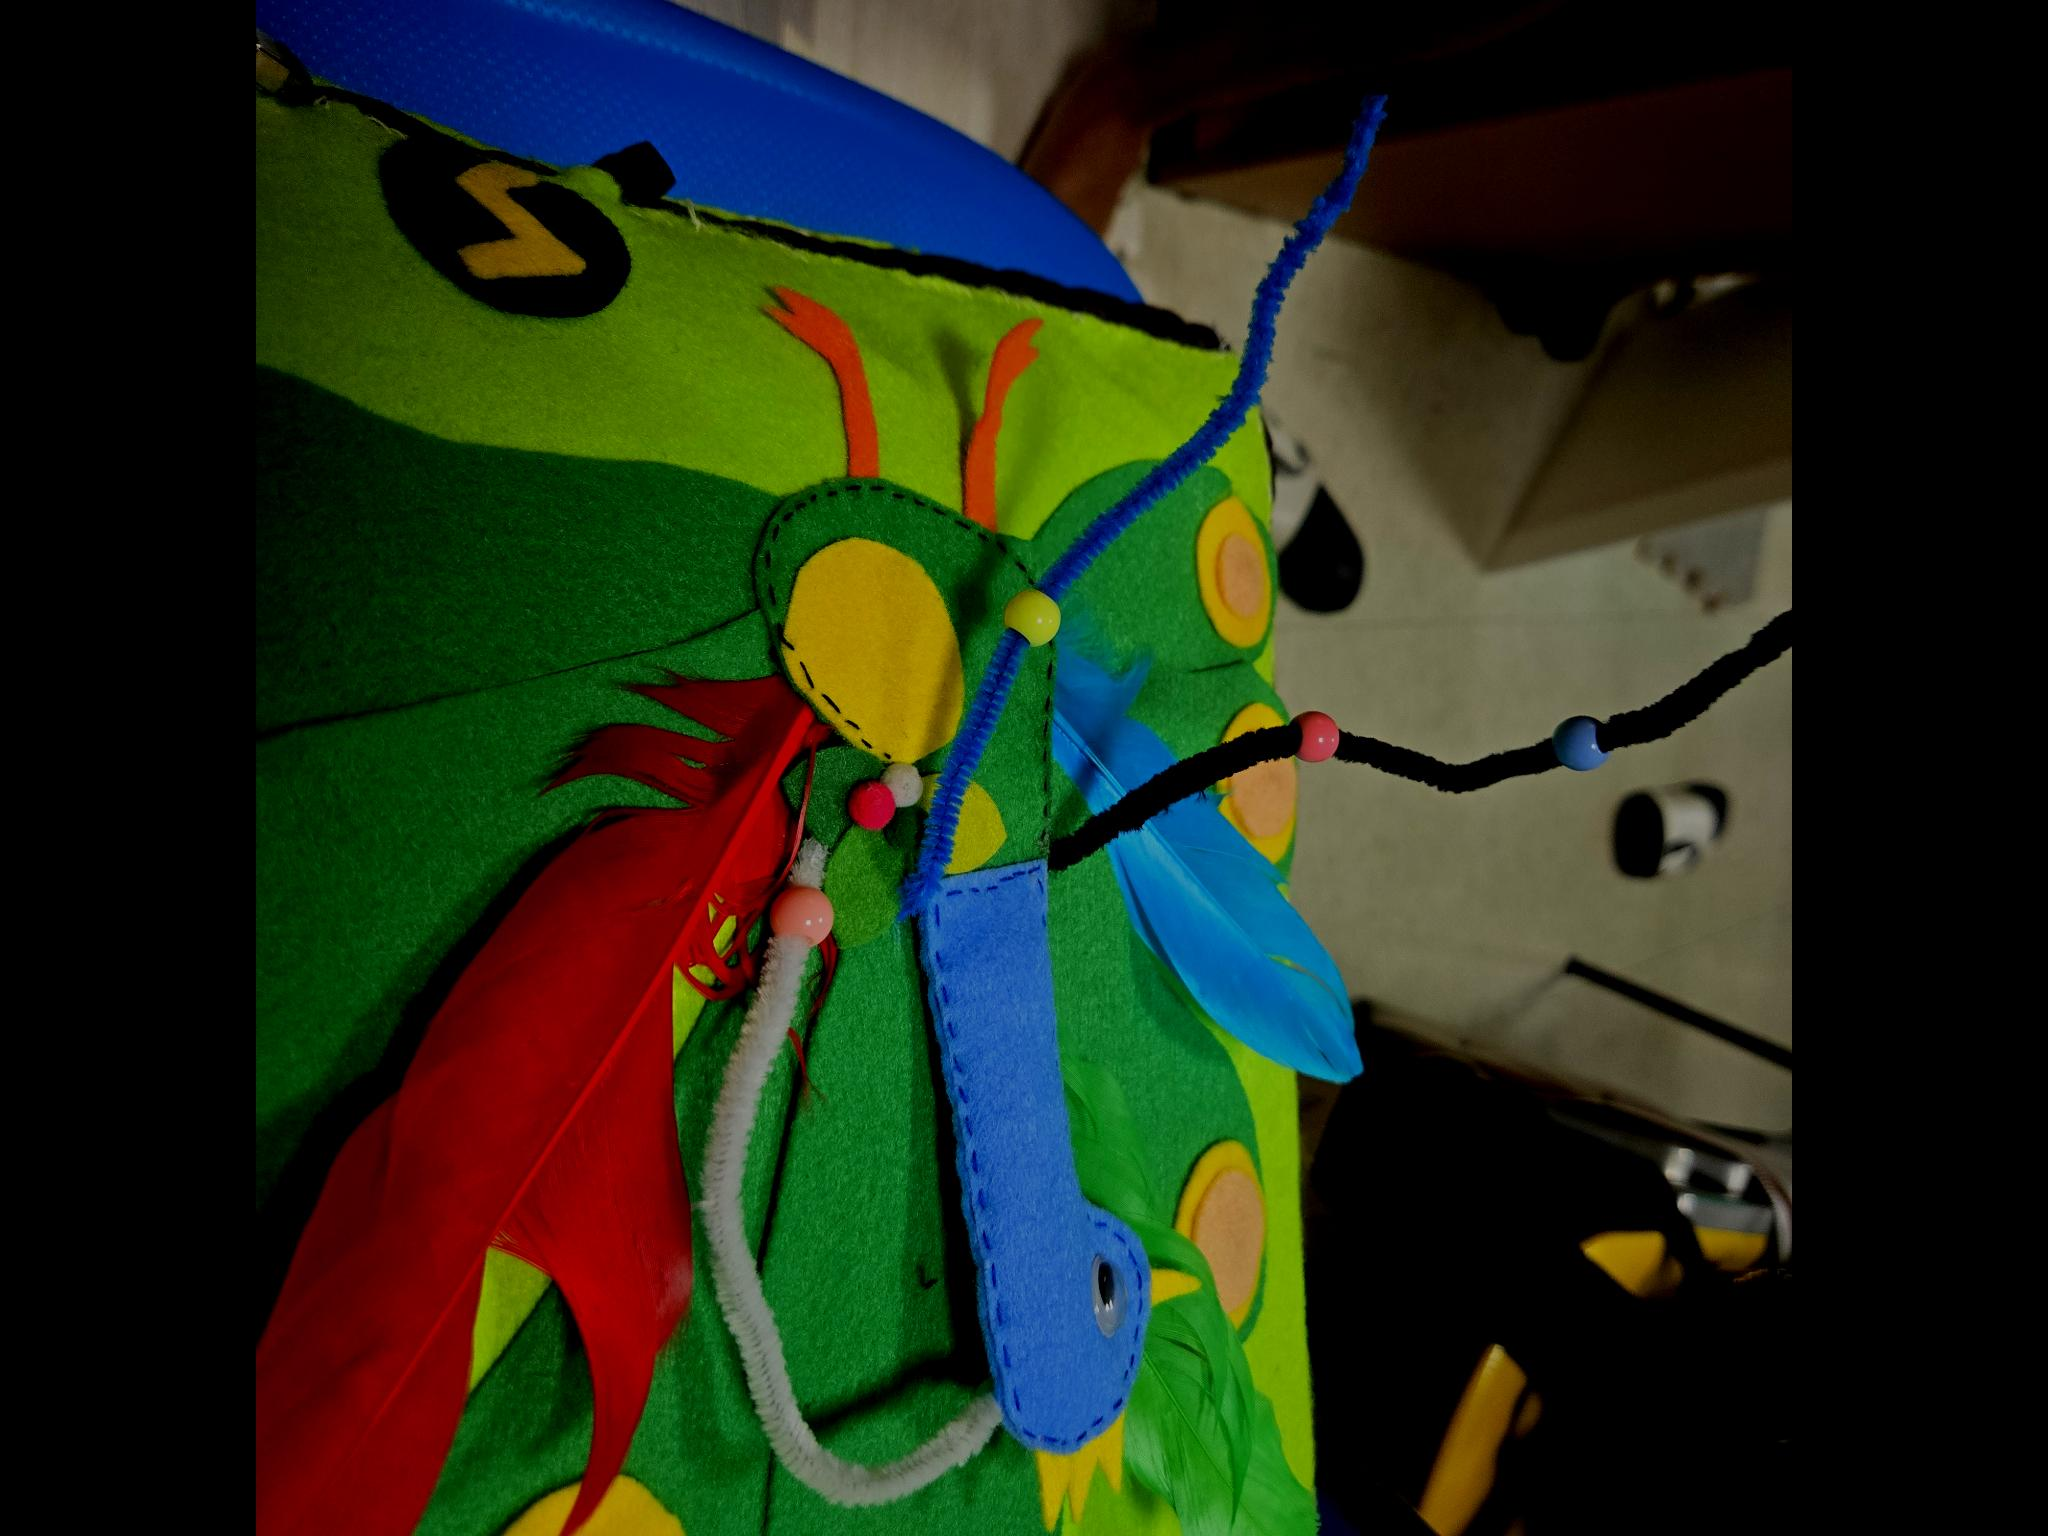bead: (760, 878, 839, 952), (1280, 697, 1353, 771), (1542, 707, 1613, 778), (997, 579, 1069, 649)
